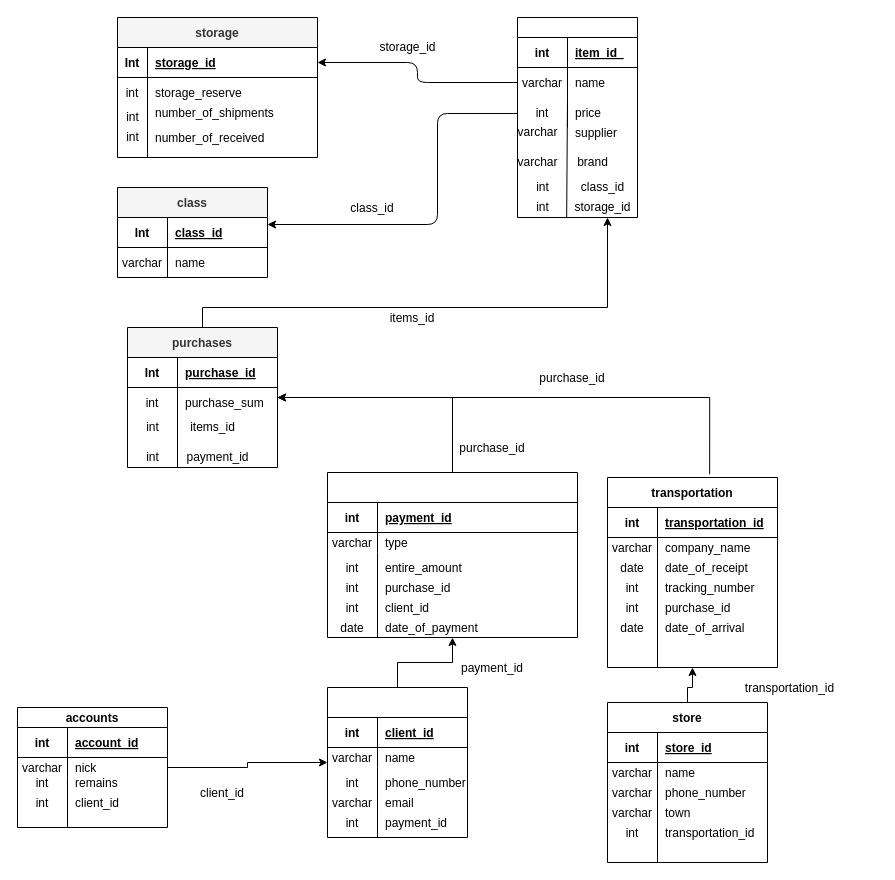
The diagram is 895 pixels wide and 880 high, and some of its shapes have lost their labels. Here are the shapes that lost their labels. From the top down, the box of each, then its label:
(516, 16, 638, 218): items
(326, 472, 578, 638): Payments
(326, 686, 468, 838): clients
